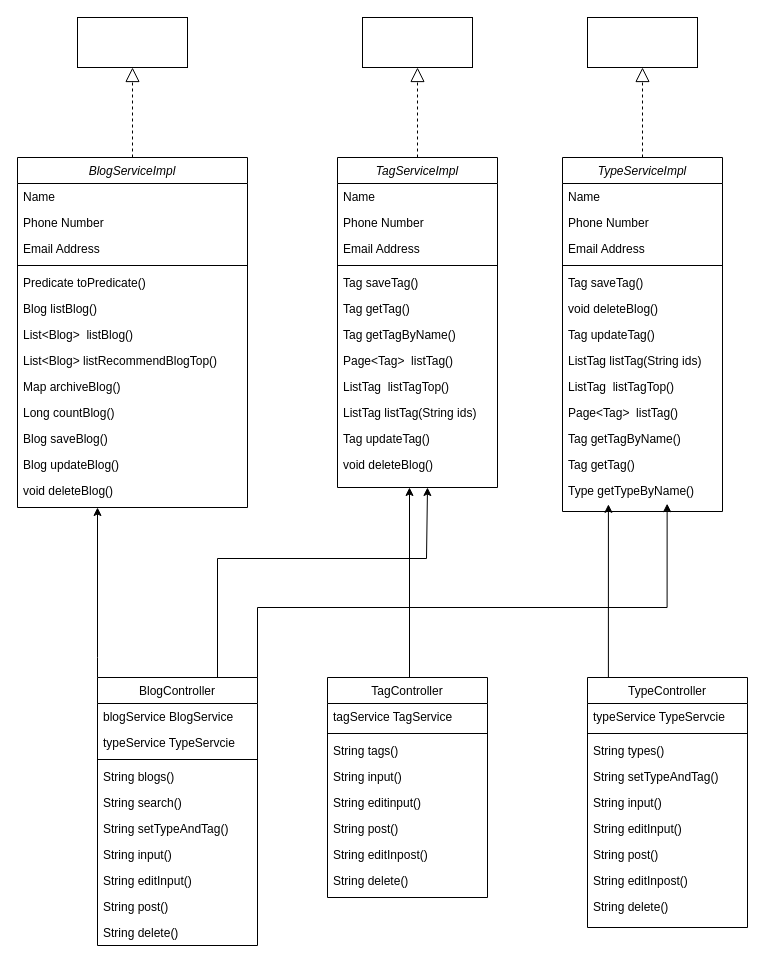
This 765x966 diagram has some shape labels left out. The centre of each missing label's shape, as x and y in pixels:
"«interface» BlogService" goes at point 132,42.
"«interface» TagService" goes at point 417,42.
"«interface» TypeService" goes at point 642,42.
